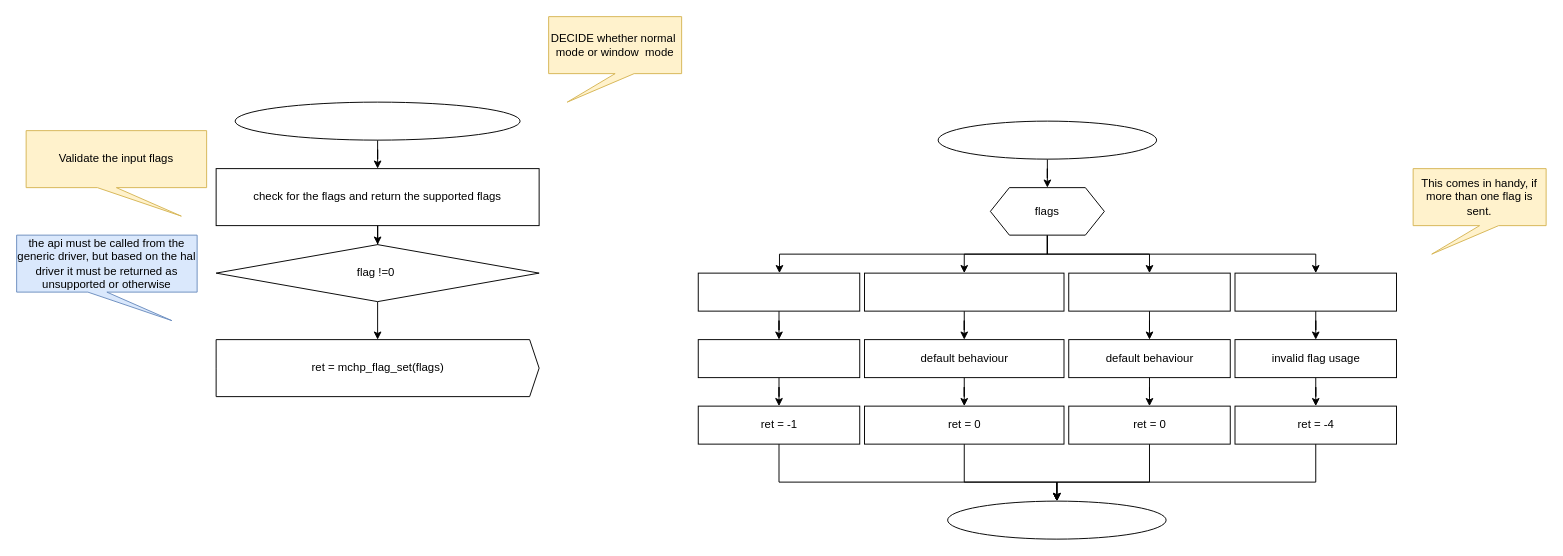
Some shapes in this 1563 by 556 pixel diagram are drawn without their labels. Each missing label, with the centre of its shape:
"default" belongs at (x=1315, y=291).
"mchp_flag_set(flags)" belongs at (x=1047, y=139).
"return ret" belongs at (x=1056, y=519).
"set the register" belongs at (x=778, y=358).
"Start WDT_INSTALL_TIMEOUT" belongs at (x=377, y=120).
"WDT_FLAG_RESET_CPU_CORE" belongs at (x=964, y=291).
"WDT_FLAG_RESET_NONE" belongs at (x=778, y=291).
"WDT_FLAG_RESET_SOC" belongs at (x=1149, y=291).
